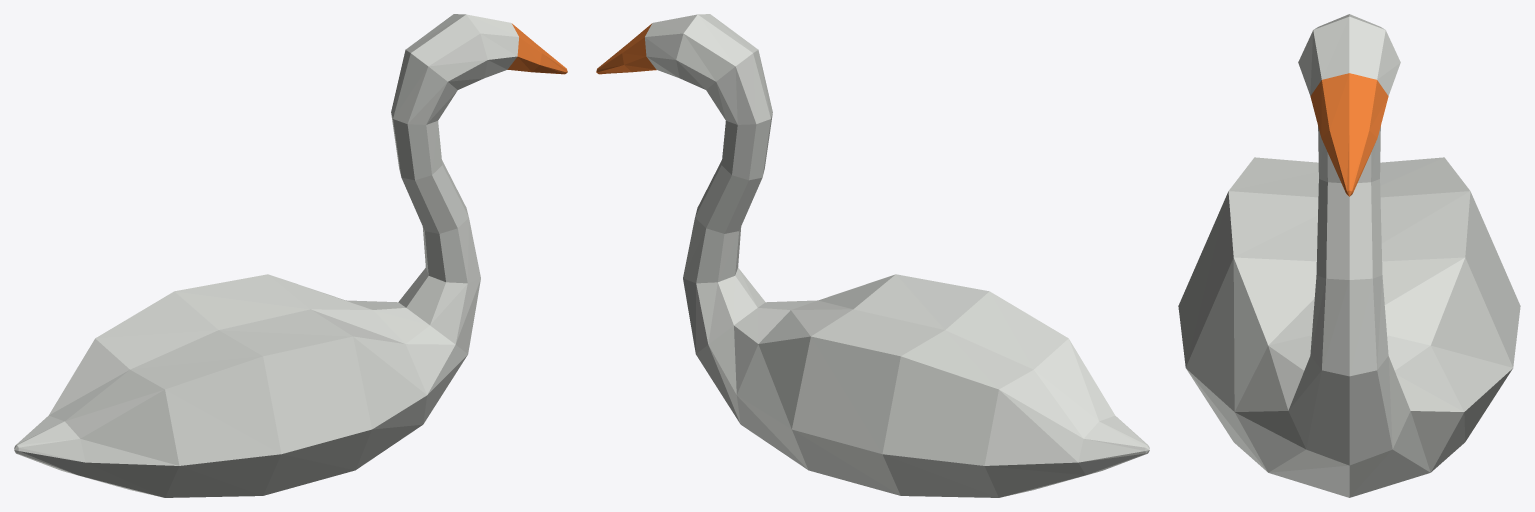
File: NEW_RECOVERY_038_LOD2.glb
3 views of the same model, side by side, from view 1: azimuth 30°, elevation 25°; view 2: azimuth 150°, elevation 25°; view 3: azimuth 270°, elevation 25° (orthographic). The views are drawn at different scales.
Parts seen in each view (by area): view 1: Swan; view 2: Swan; view 3: Swan.
Part boxes in pixels (x1,y1,x2,y2): Swan: (14,14,567,497); Swan: (596,14,1149,497); Swan: (1178,14,1520,497).
Size of the model in its own units: 3.56 by 2.53 by 1.4.
